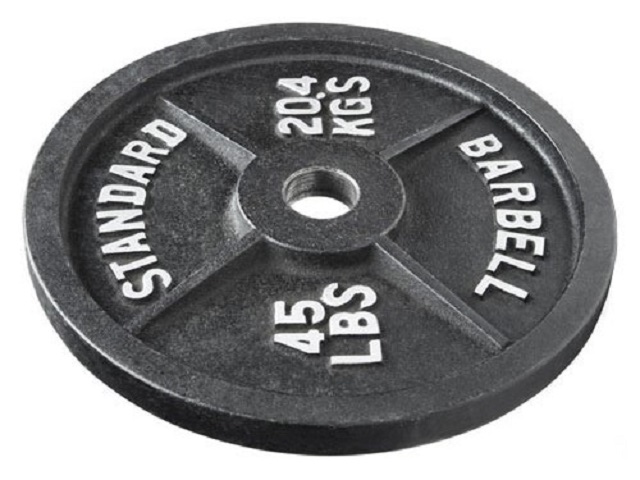weights: (23, 22, 618, 458)
